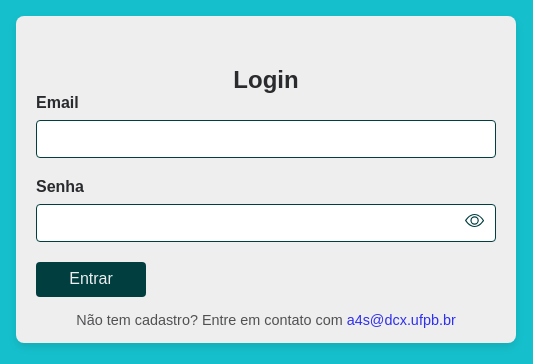
it: Página de Login › deve alternar a visibilidade da senha ao clicar no ícone
Type "senha-secreta" into the password field with test id "login-password-input" at (266,223), box [36,204,496,242]
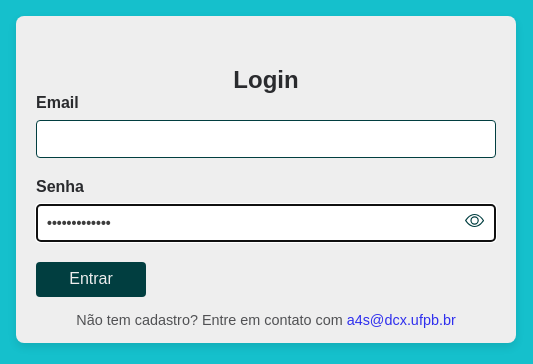
Click the element with test id "login-password-toggle" at (475,222), box [465,210,484,234]
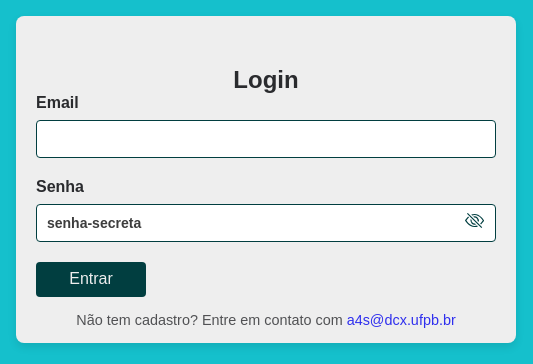
Check: the field with test id "login-password-input" shows its text, box [36,204,496,242]
Click the element with test id "login-password-toggle" at (475,222), box [465,210,484,234]
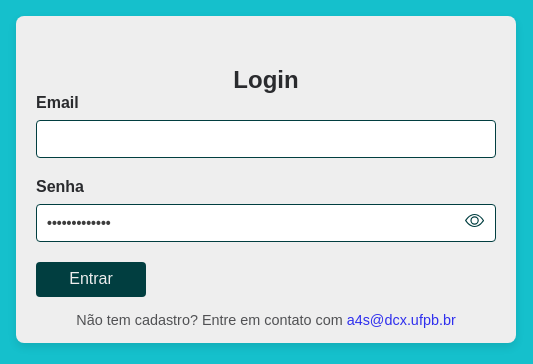
Check: the password field with test id "login-password-input" hides its text, box [36,204,496,242]
